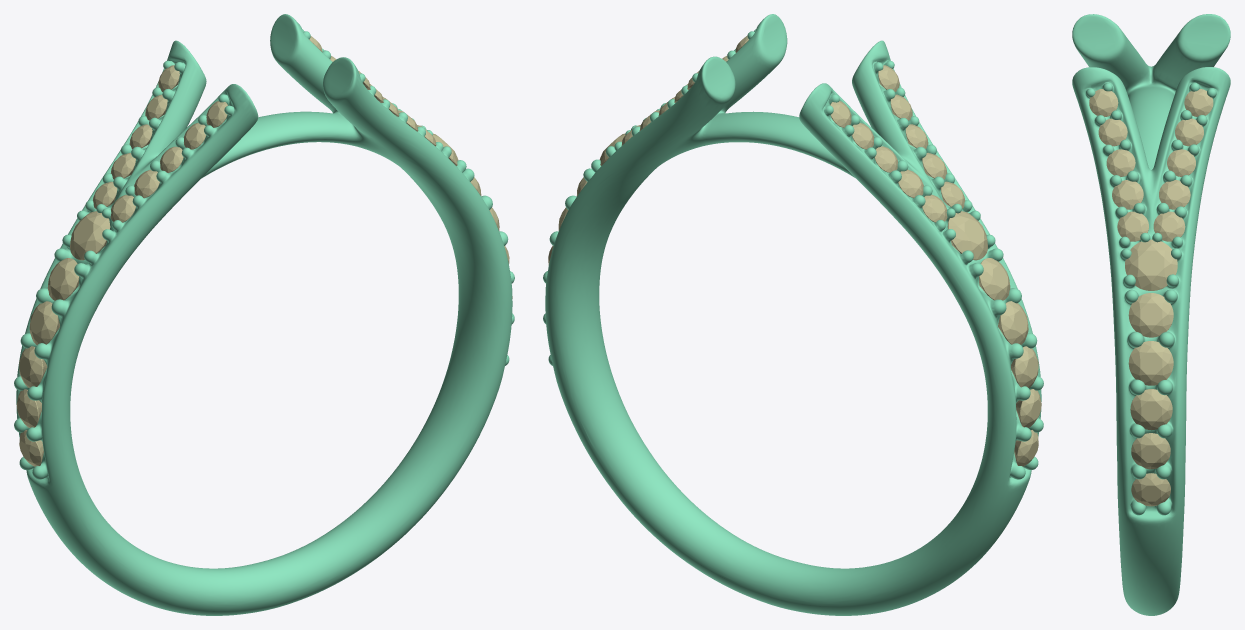
3 renders of one model, left to right at view 1: azimuth 30°, elevation 25°; view 2: azimuth 150°, elevation 25°; view 3: azimuth 270°, elevation 25°, orthographic.
Visible parts, largest first — view 1: Metal02, Diamond_Gem.015, Diamond_Gem.014, Diamond_Gem.013, Diamond_Gem.010, Diamond_Gem.011; view 2: Metal02, Diamond_Gem.015, Diamond_Gem.014, Diamond_Gem.013, Diamond_Gem.010, Diamond_Gem.011; view 3: Metal02, Diamond_Gem.016, Diamond_Gem.017, Diamond_Gem.018, Diamond_Gem.021, Diamond_Gem.020, Diamond_Gem.019, Diamond_Gem.031, Diamond_Gem.030, Diamond_Gem.028, Diamond_Gem.029, Diamond_Gem.023 (+5 smaller).
Boxes of the visible parts, <box> form: Metal02: <box>14,14,514,615</box>; Diamond_Gem.015: <box>70,211,110,260</box>; Diamond_Gem.014: <box>47,258,79,300</box>; Diamond_Gem.013: <box>29,301,59,344</box>; Diamond_Gem.010: <box>19,346,47,387</box>; Diamond_Gem.011: <box>16,389,41,427</box>; Metal02: <box>543,14,1043,615</box>; Diamond_Gem.015: <box>947,211,987,260</box>; Diamond_Gem.014: <box>979,258,1010,300</box>; Diamond_Gem.013: <box>998,301,1028,344</box>; Diamond_Gem.010: <box>1011,346,1038,387</box>; Diamond_Gem.011: <box>1016,389,1041,427</box>; Metal02: <box>1072,14,1230,615</box>; Diamond_Gem.016: <box>1125,239,1177,290</box>; Diamond_Gem.017: <box>1128,293,1173,337</box>; Diamond_Gem.018: <box>1128,341,1173,385</box>; Diamond_Gem.021: <box>1130,389,1172,430</box>; Diamond_Gem.020: <box>1131,433,1170,469</box>; Diamond_Gem.019: <box>1131,473,1170,506</box>; Diamond_Gem.031: <box>1112,180,1143,209</box>; Diamond_Gem.030: <box>1117,211,1148,241</box>; Diamond_Gem.028: <box>1159,180,1190,209</box>; Diamond_Gem.029: <box>1153,211,1185,241</box>; Diamond_Gem.023: <box>1106,149,1135,176</box>.
Size of the model in its own units: 21.01 by 22.96 by 6.01.
